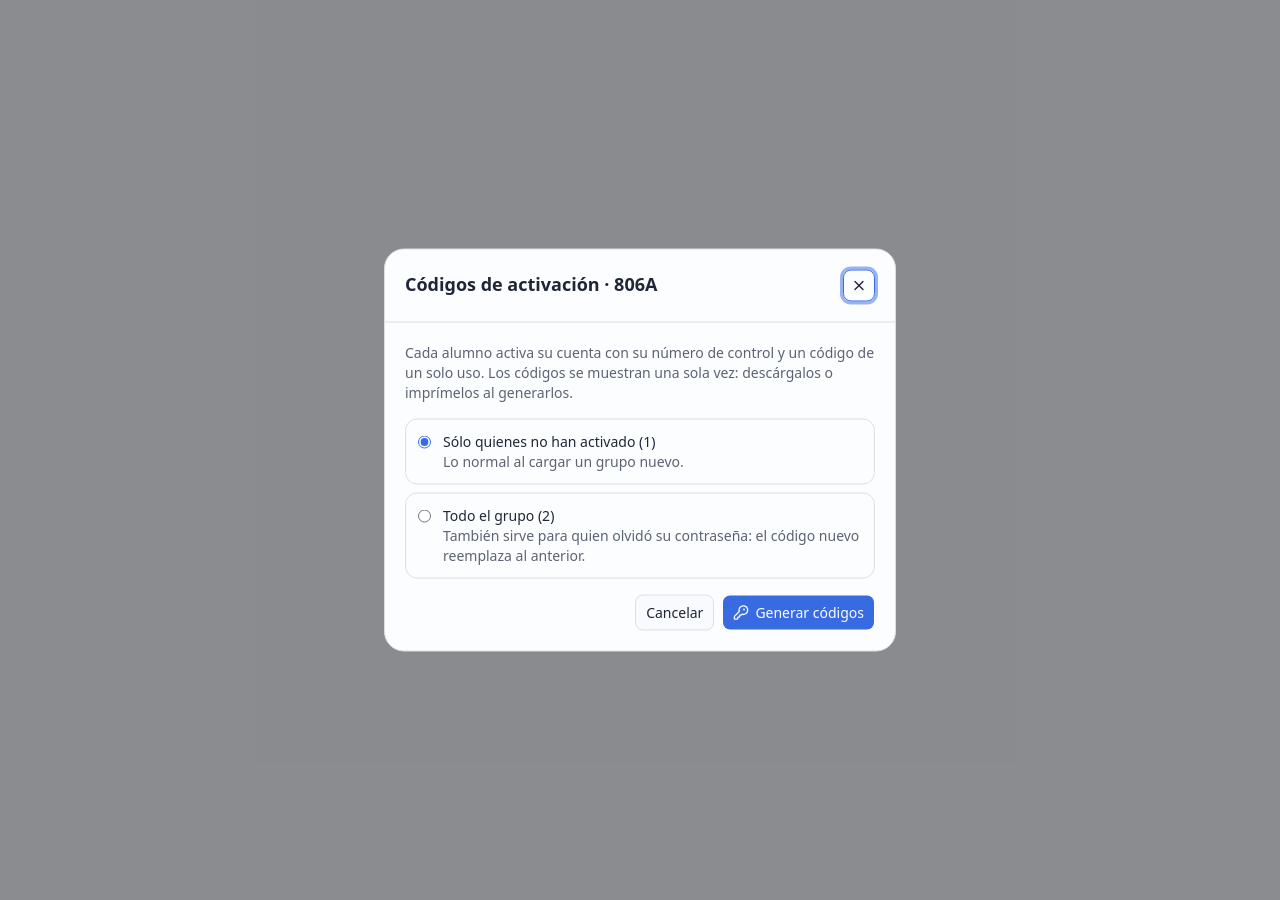
Test: el admin genera los códigos de quienes no han activado y los ve una sola vez
Expected: the radio button labelled "Sólo quienes no han activado (1)" is checked, [418, 436, 431, 448]
Click the button "Generar códigos" at x=799, y=612, box [722, 594, 875, 630]
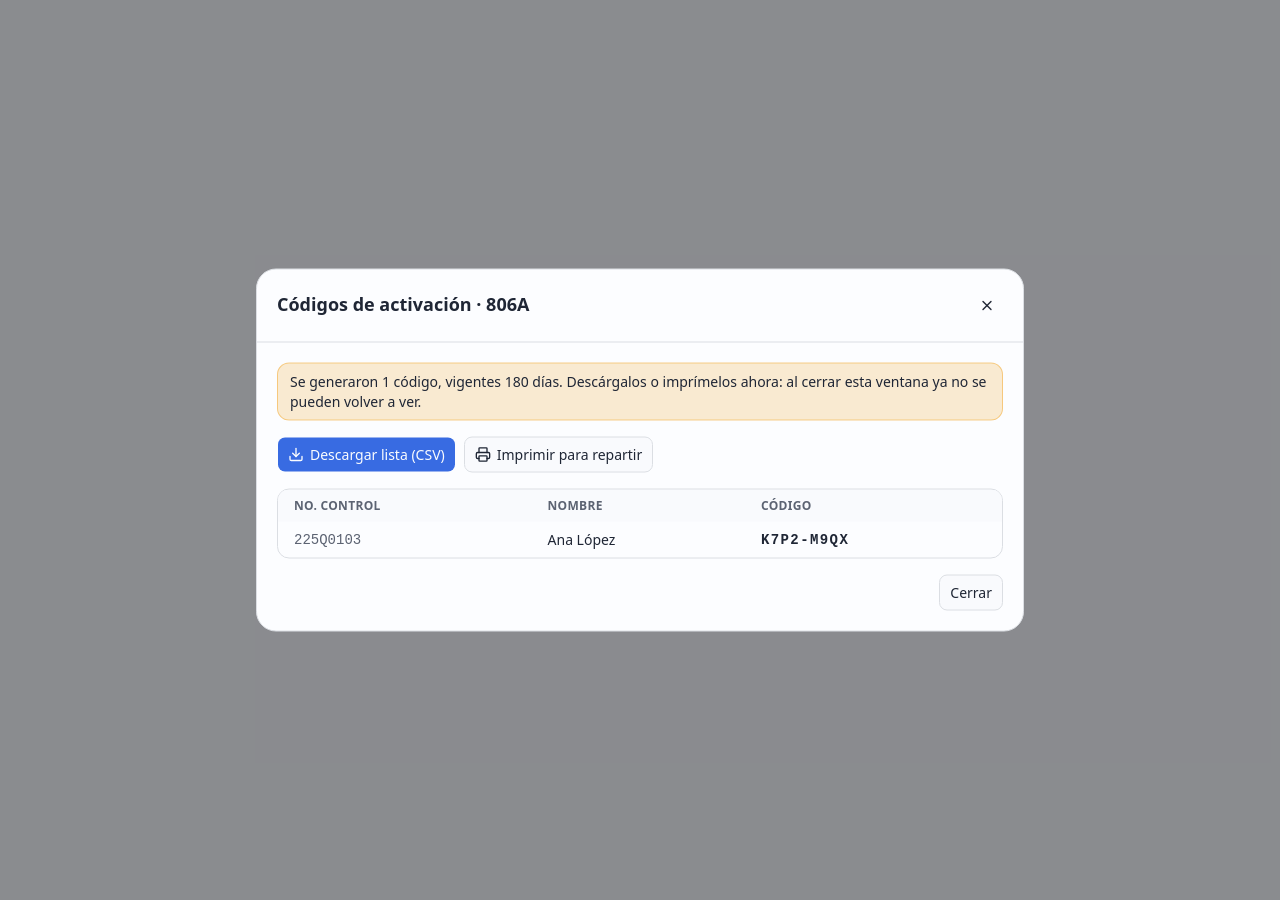
Result: the text "K7P2-M9QX" is shown at [745, 522, 1002, 558]
Result: the message shows "ya no se pueden volver a ver" at [290, 372, 986, 410]
